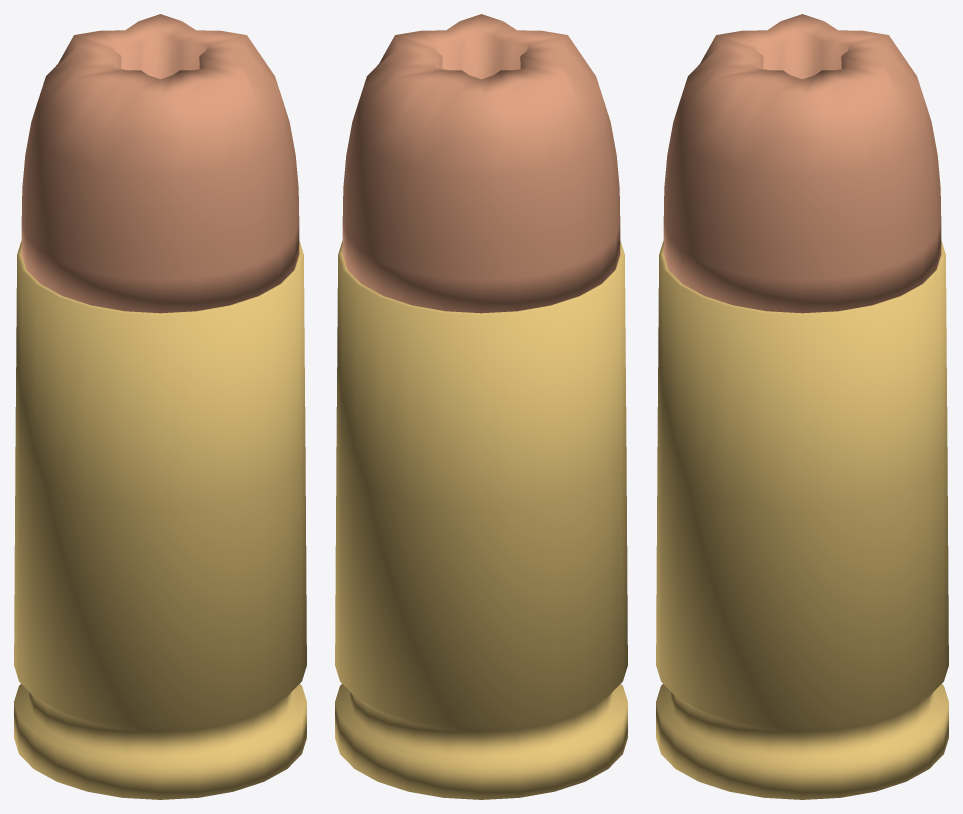
3 renders of one model, left to right at view 1: azimuth 30°, elevation 25°; view 2: azimuth 150°, elevation 25°; view 3: azimuth 270°, elevation 25°, orthographic.
Parts seen in each view (by area): view 1: vaina, bala_hueca; view 2: vaina, bala_hueca; view 3: vaina, bala_hueca.
Boxes of the visible parts, x1,y1,x2,y2 form: vaina: (14, 241, 306, 799); bala_hueca: (21, 14, 299, 313); vaina: (335, 241, 627, 799); bala_hueca: (342, 14, 620, 313); vaina: (656, 241, 948, 799); bala_hueca: (663, 14, 941, 313).
Size of the model in its own units: 0.0095 by 0.0244 by 0.0095.
